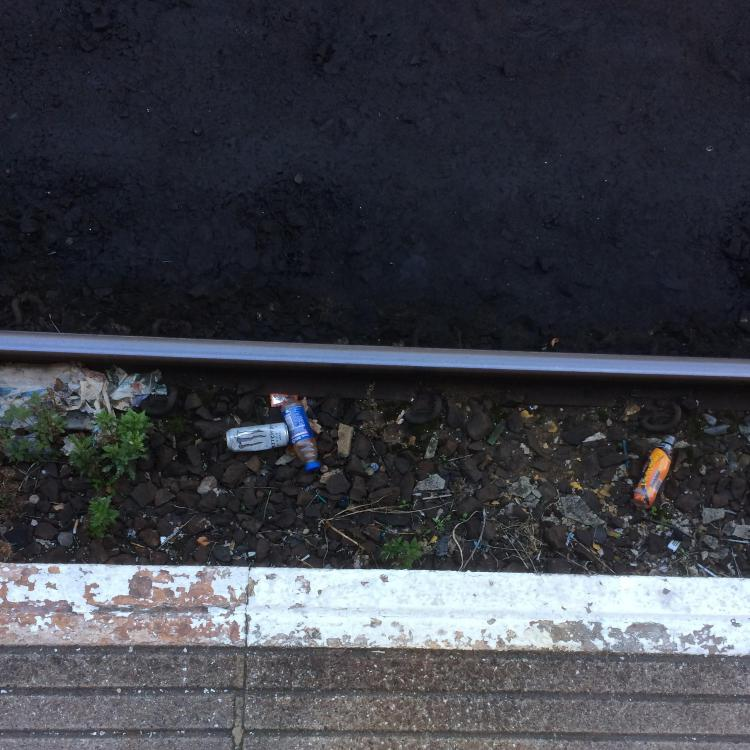Cigarette: (74, 519, 79, 535)
Clear plastic bottle: (630, 435, 676, 511), (281, 397, 320, 472)
Drink can: (226, 422, 289, 452)
Metal bottle cap: (366, 466, 374, 476), (319, 465, 328, 473), (370, 462, 379, 470)
Normal paper: (1, 361, 167, 447)
Other plastic: (270, 393, 298, 407)
Other plastic wrapper: (318, 494, 326, 504)
Plastic bottle cap: (305, 463, 320, 472), (338, 498, 349, 508)
Unlabeled litter: (696, 563, 718, 578), (565, 532, 574, 546), (726, 539, 749, 544), (473, 540, 481, 550)
